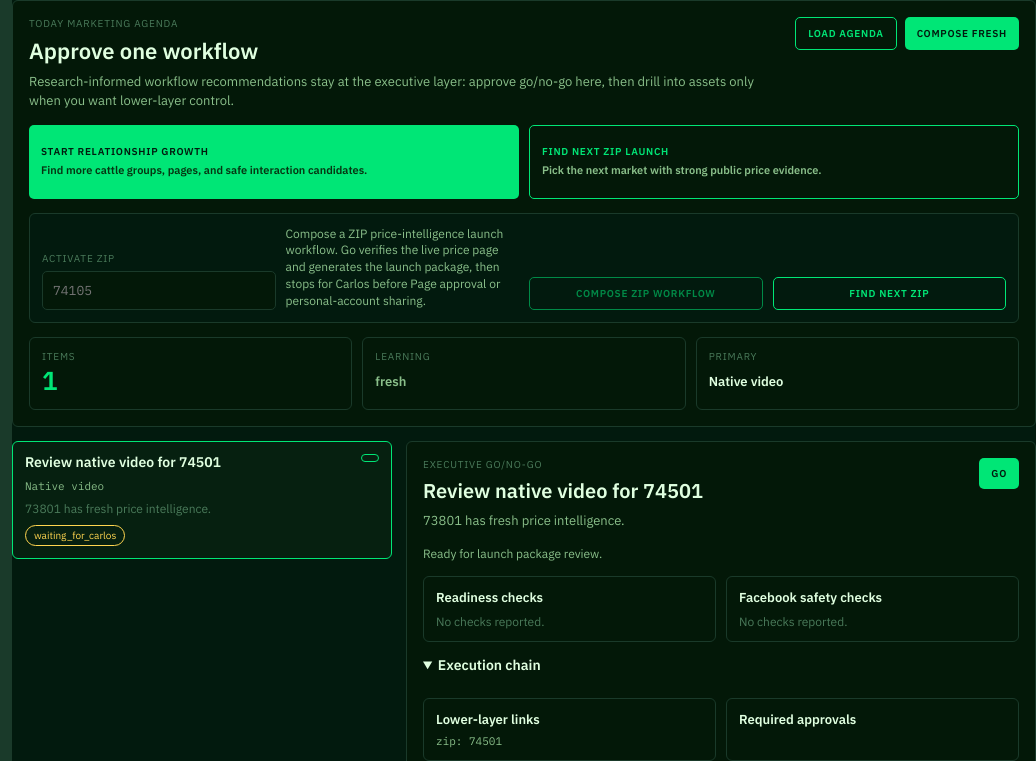
Test case: TodayAgendaWorkspace launch package review › does not focus blocked ZIP launches returned by compose
The image size is (1036, 761).
Click the button "Find next ZIP launch" at point(774, 162), box [529, 125, 1019, 199]
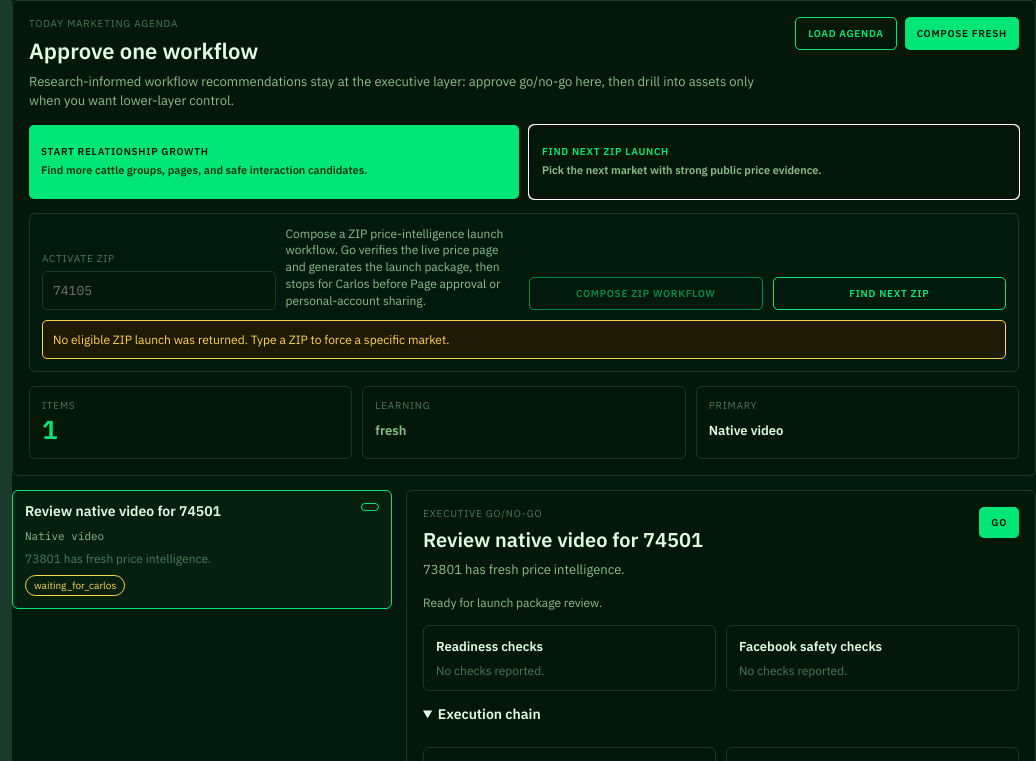
Expected: the heading "Review native video for 74501" is shown, [423, 526, 703, 553]
Result: the text "No eligible ZIP launch was returned" is shown at [53, 332, 449, 347]
